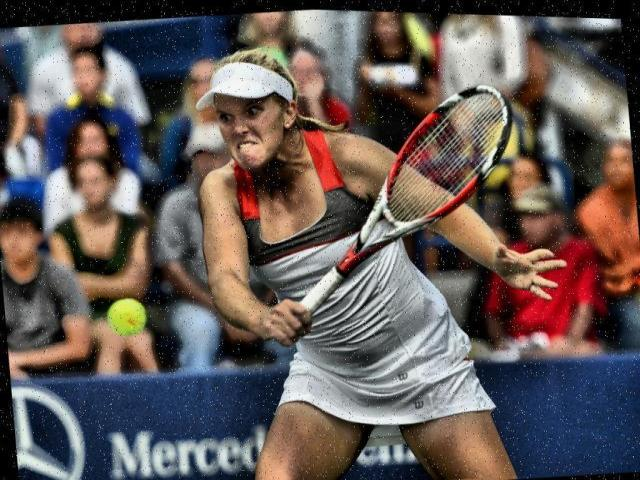tennis-ball: (108, 294, 150, 338)
